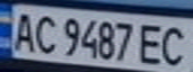4: (78, 16, 100, 58)
7: (112, 19, 139, 63)
8: (97, 17, 118, 61)
9: (57, 14, 81, 57)
A: (9, 9, 39, 53)
C: (157, 22, 193, 69), (30, 11, 60, 55)
E: (136, 20, 169, 65)
